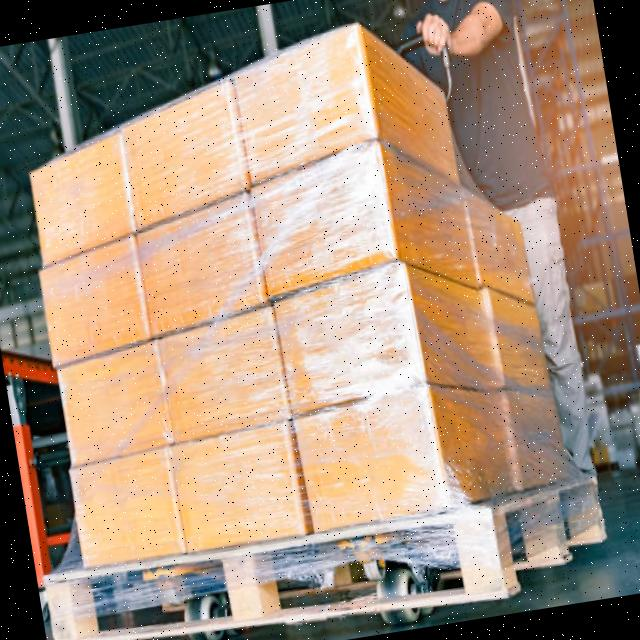Wooden-Pallets: (39, 467, 612, 640)
